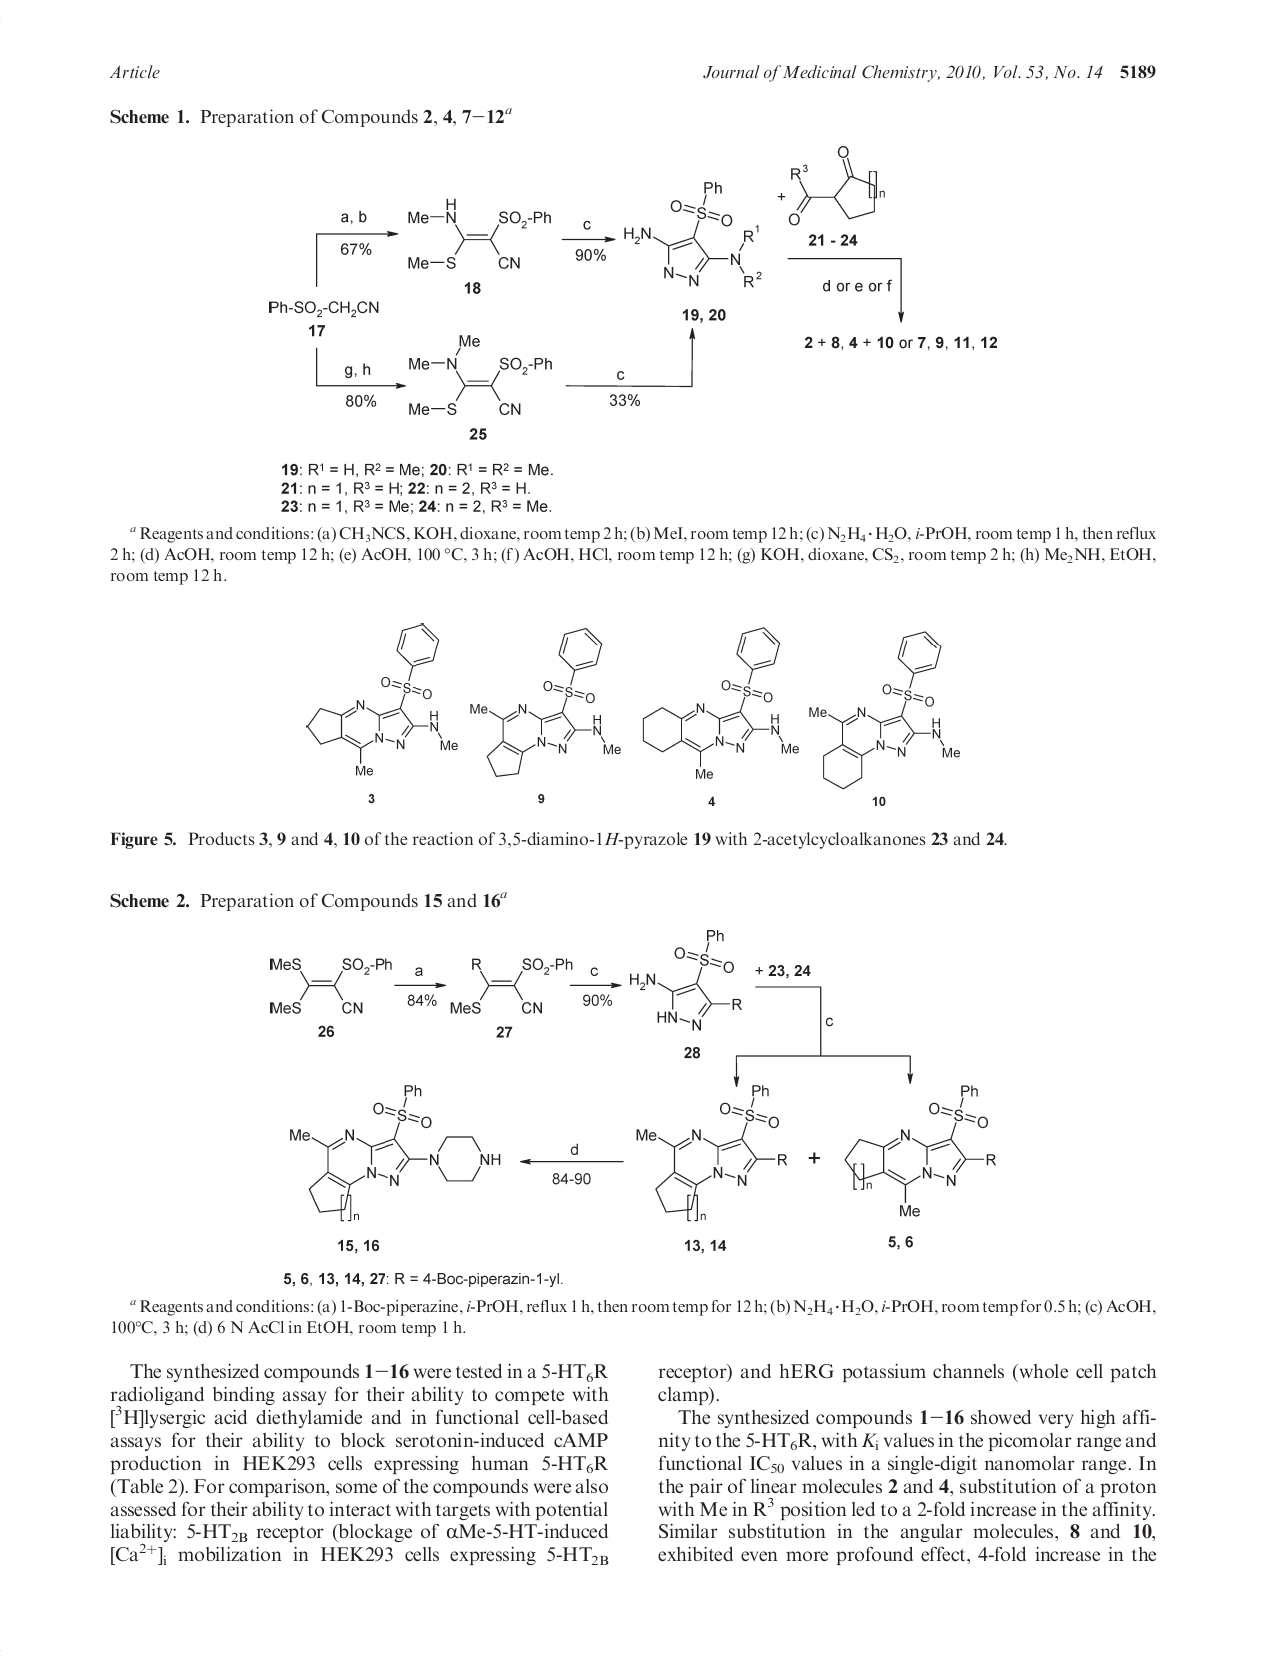exist_molecular: (275, 1079, 505, 1222), (299, 612, 461, 781), (637, 618, 799, 779), (806, 626, 963, 791), (630, 1077, 797, 1231), (463, 620, 621, 779), (840, 1076, 1001, 1223), (618, 172, 770, 301), (404, 328, 555, 419), (628, 924, 747, 1036), (404, 193, 559, 279), (263, 946, 394, 1020), (444, 946, 574, 1020), (789, 141, 890, 229)
